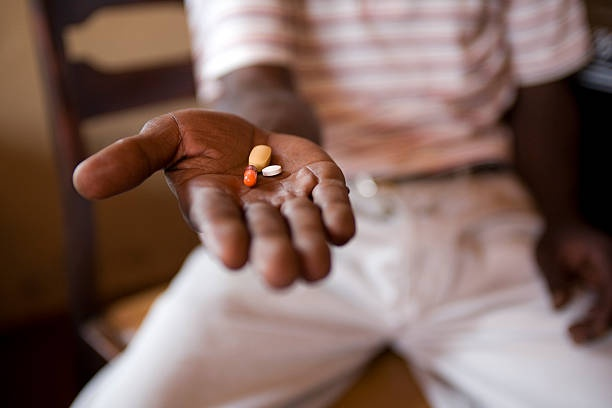pills: (248, 144, 275, 169), (246, 166, 258, 188), (259, 165, 284, 175)
